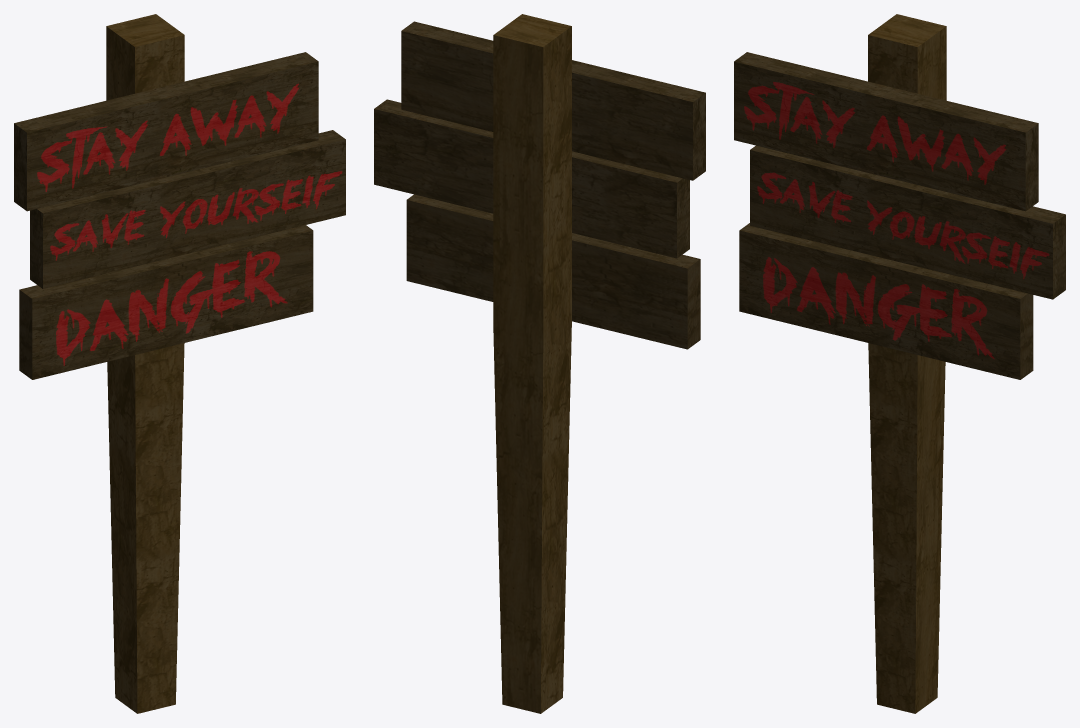
File: signFBX.fbx
3 views of the same model, side by side, from view 1: azimuth 30°, elevation 25°; view 2: azimuth 150°, elevation 25°; view 3: azimuth 330°, elevation 25° (orthographic).
Parts seen in each view (by area): view 1: pCube1; view 2: pCube1; view 3: pCube1.
Part boxes in pixels (x1,y1,x2,y2): pCube1: (14, 14, 345, 713); pCube1: (374, 14, 705, 713); pCube1: (734, 14, 1065, 713).
Bounding box in the file's own units: 4.87 × 9.78 × 1.1.
